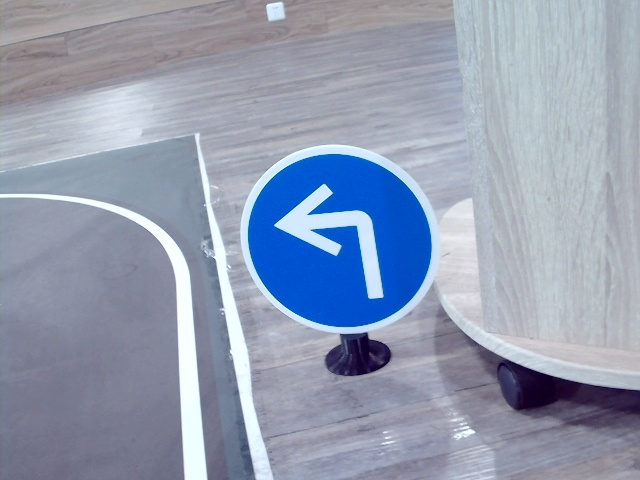turn_left: (275, 178, 396, 303)
